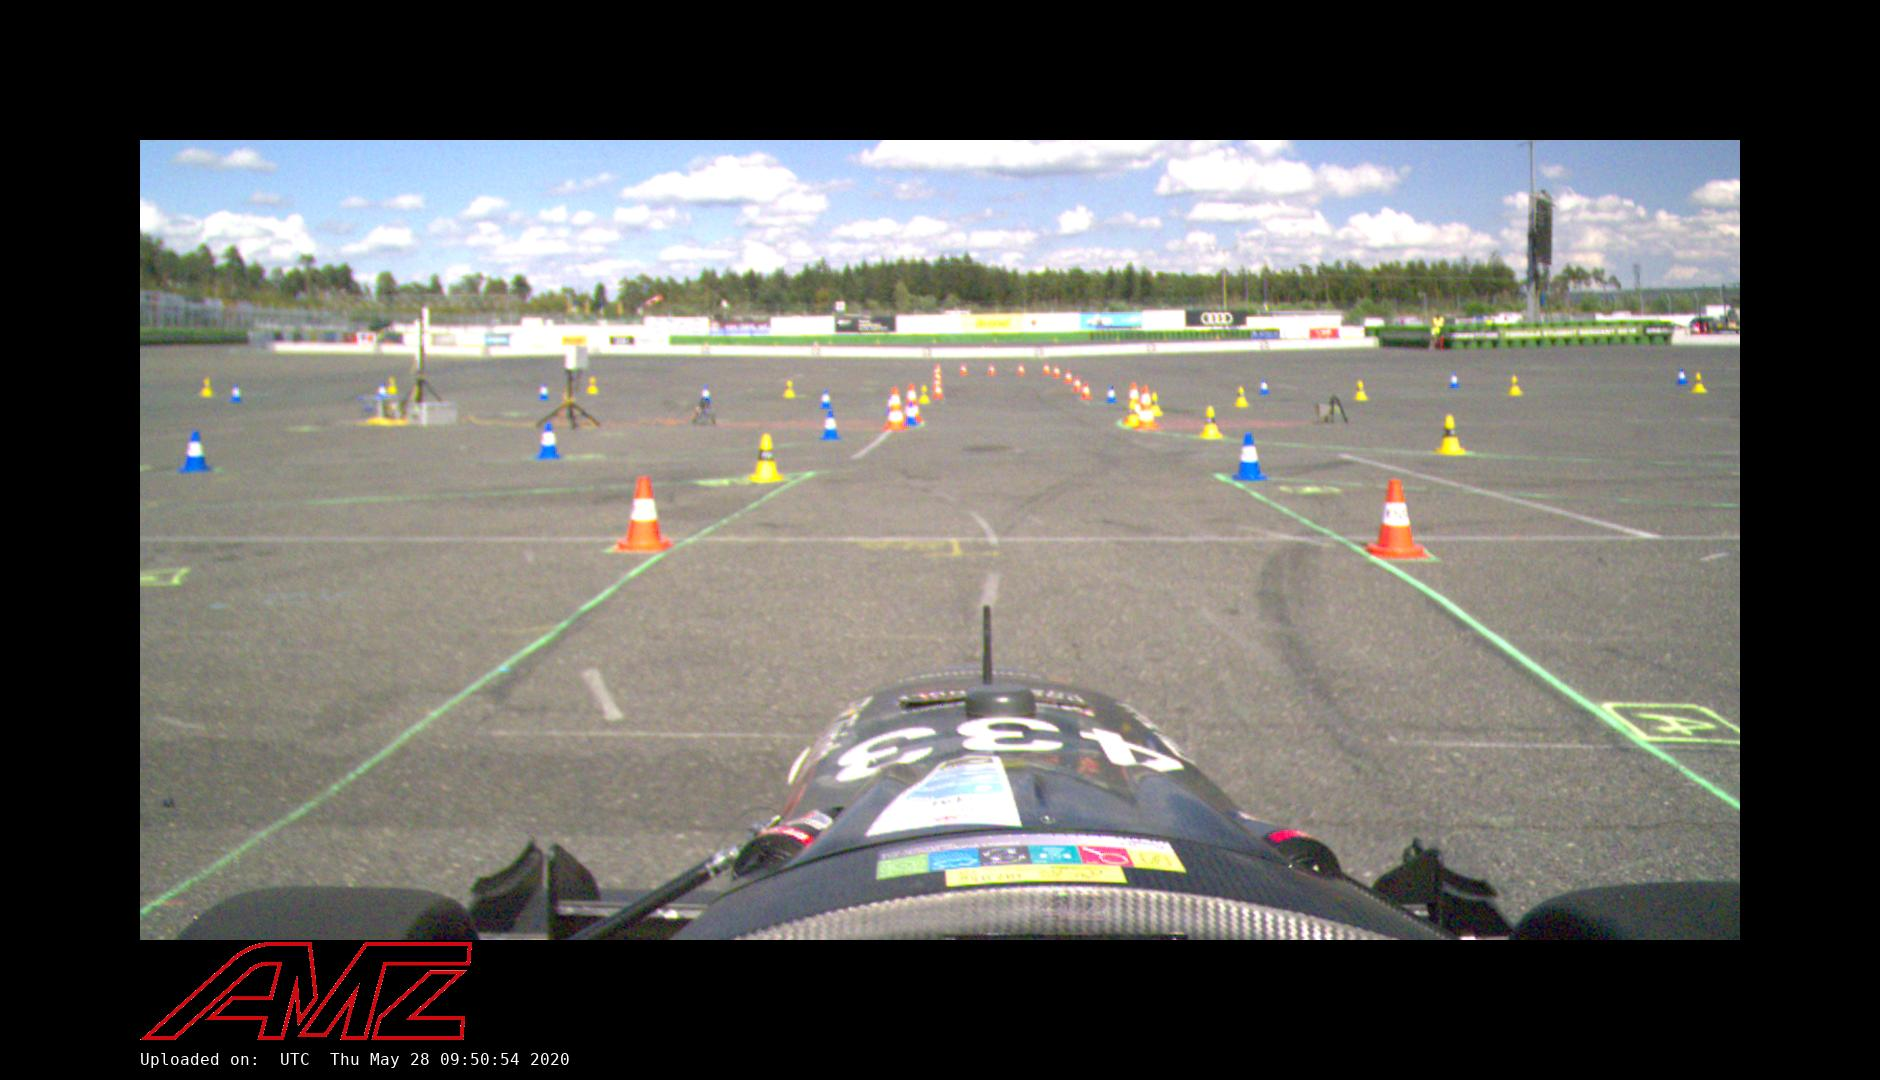blue_cone: (1231, 431, 1267, 483), (178, 430, 210, 472), (535, 421, 560, 460), (819, 410, 842, 441), (905, 400, 919, 428), (1447, 369, 1464, 390), (229, 382, 243, 403), (374, 381, 389, 399), (700, 384, 711, 404), (1675, 367, 1688, 385), (1258, 379, 1271, 395), (821, 390, 832, 410), (1107, 386, 1118, 403), (538, 384, 549, 400)
large_orange_cone: (884, 388, 908, 430), (1138, 385, 1157, 431), (904, 384, 922, 424), (1127, 382, 1140, 422)
orange_cone: (1364, 479, 1431, 559), (615, 475, 674, 552), (1082, 382, 1092, 399), (1052, 366, 1061, 379), (1065, 369, 1073, 384), (986, 364, 996, 376), (1017, 364, 1027, 376), (1074, 376, 1081, 391), (959, 363, 967, 375), (1043, 362, 1050, 375)
yellow_cone: (748, 434, 785, 484), (1435, 413, 1467, 455), (1200, 404, 1223, 438), (1506, 375, 1527, 397), (1125, 400, 1141, 426), (1233, 385, 1250, 408), (1354, 379, 1370, 400), (1691, 372, 1707, 391), (199, 377, 213, 398), (782, 380, 797, 399), (1150, 391, 1161, 416), (587, 376, 598, 394), (919, 386, 930, 404), (387, 377, 398, 394)
